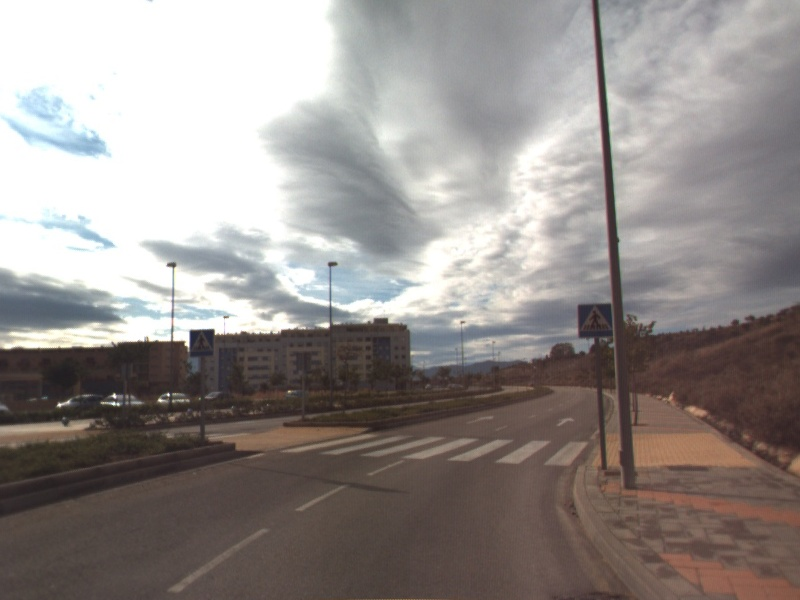STRAIGHT: (464, 413, 496, 426), (554, 415, 577, 428)
